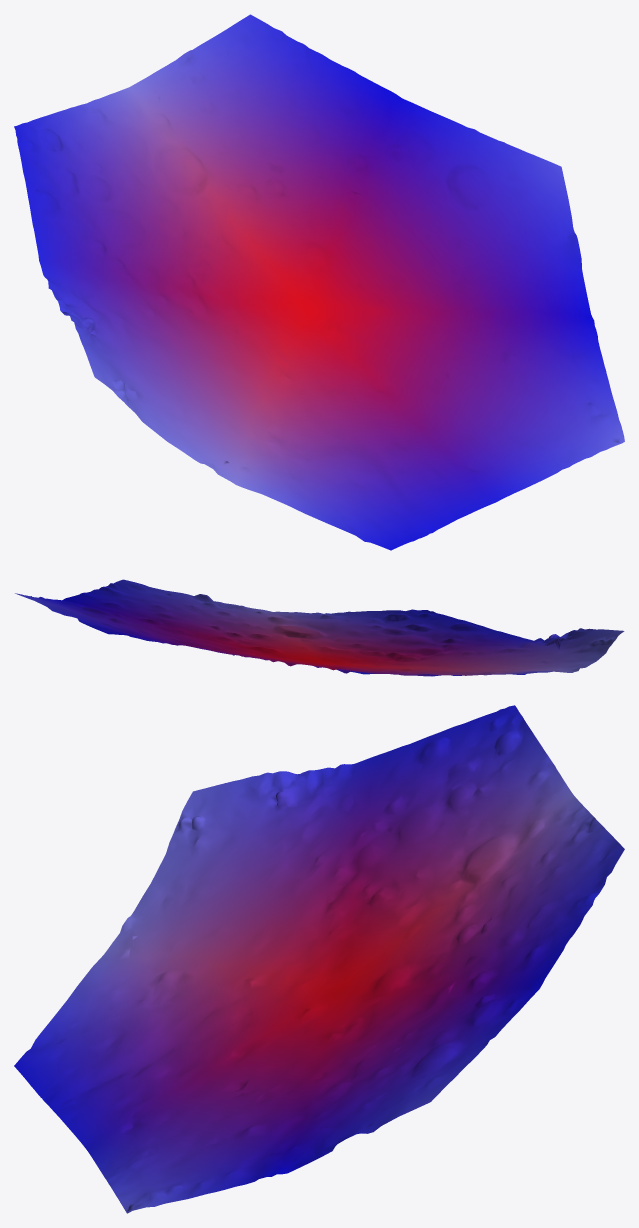
The model's file is Hex_27.fbx.
3 views of the same model, one above another, from view 1: azimuth 30°, elevation 25°; view 2: azimuth 150°, elevation 25°; view 3: azimuth 270°, elevation 25° (orthographic). The views are drawn at different scales.
Visible parts, largest first — view 1: Hex_27; view 2: Hex_27; view 3: Hex_27.
Part boxes in pixels (bbox=[...]): Hex_27: bbox=[14, 14, 624, 550]; Hex_27: bbox=[15, 579, 624, 676]; Hex_27: bbox=[14, 705, 624, 1213].
Size of the model in its own units: 496 by 240 by 434.
